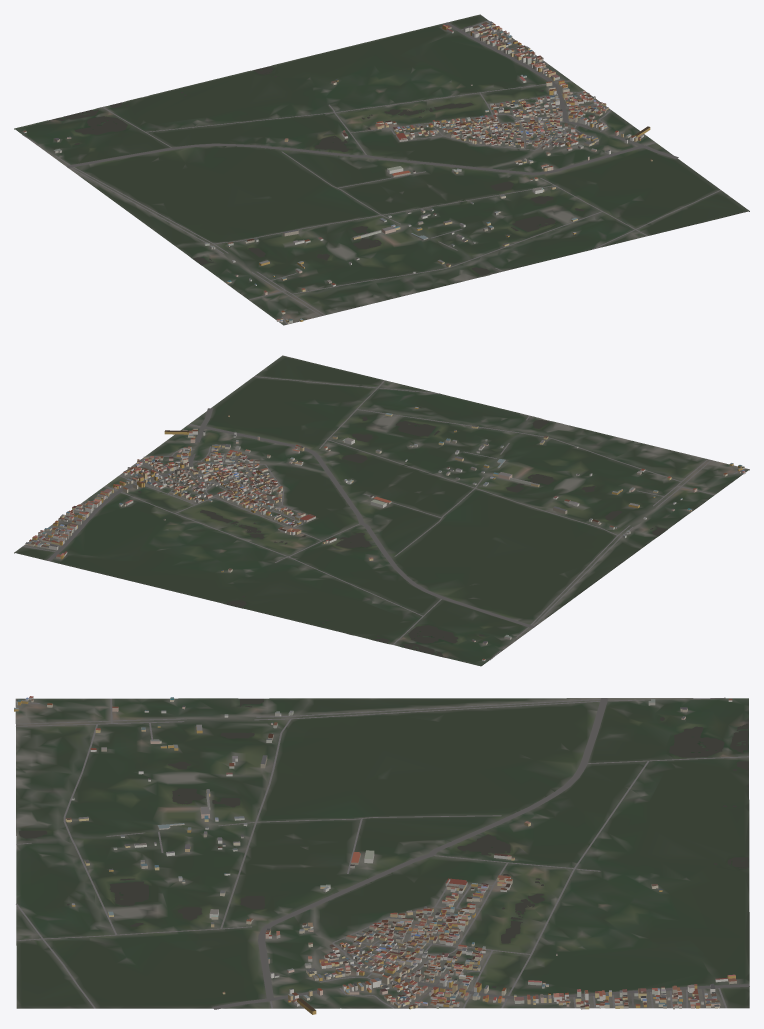
3 views of the same model, one above another, from view 1: azimuth 30°, elevation 25°; view 2: azimuth 150°, elevation 25°; view 3: azimuth 270°, elevation 25° (orthographic). The views are drawn at different scales.
Parts seen in each view (by area): view 1: ground, buildings, roads, water; view 2: ground, buildings, roads, water; view 3: ground, buildings, roads, water.
Boxes of the visible parts, x1,y1,x2,y2 form: ground: [14, 14, 749, 325]; buildings: [23, 21, 652, 323]; roads: [22, 20, 720, 324]; water: [52, 66, 584, 275]; ground: [14, 355, 749, 666]; buildings: [25, 407, 745, 660]; roads: [22, 376, 745, 660]; water: [138, 407, 666, 656]; ground: [15, 698, 749, 1008]; buildings: [14, 696, 736, 1014]; roads: [16, 697, 749, 1009]; water: [19, 698, 748, 988].
Bounding box in the file's own units: 1434 × 21.7 × 1407.
